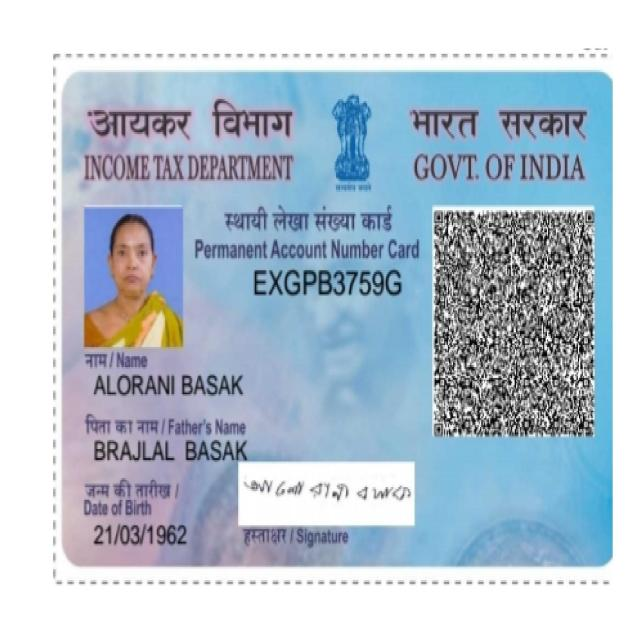pan_card: (65, 77, 611, 569)
